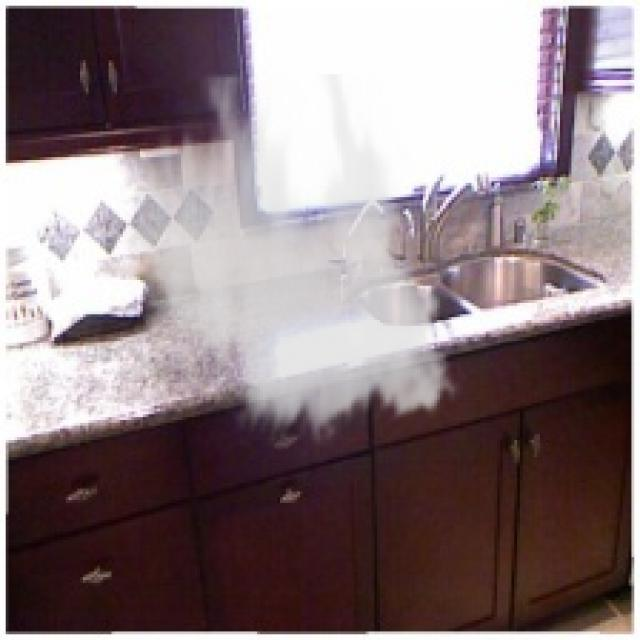smoke: (114, 74, 466, 446)
